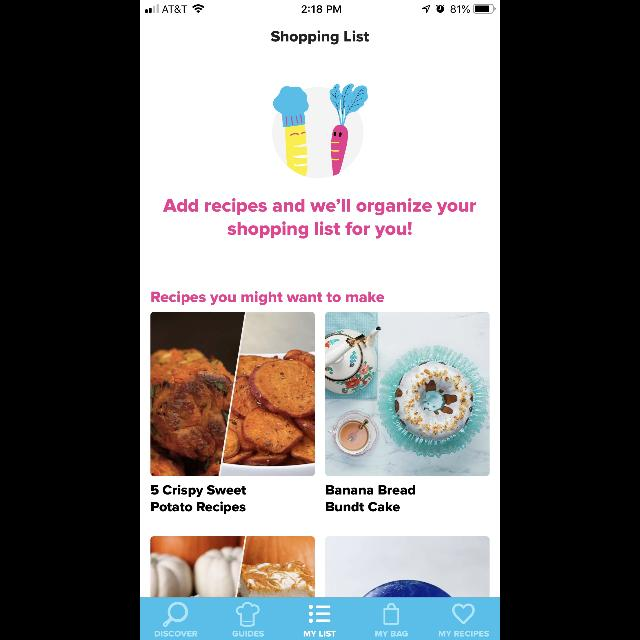icon: (164, 602, 188, 626), (452, 604, 474, 624), (309, 605, 331, 623), (383, 603, 399, 625)
image: (326, 312, 490, 476), (151, 312, 315, 476), (151, 536, 315, 598), (326, 536, 490, 598), (272, 84, 368, 178), (236, 602, 260, 626)
text: (164, 198, 476, 240), (152, 291, 384, 305), (152, 484, 246, 514), (326, 485, 416, 511), (271, 31, 369, 45), (439, 631, 489, 637), (154, 630, 198, 636), (232, 630, 264, 636), (304, 630, 336, 636), (376, 631, 408, 637)
uppertaskbar: (140, 0, 500, 14)
